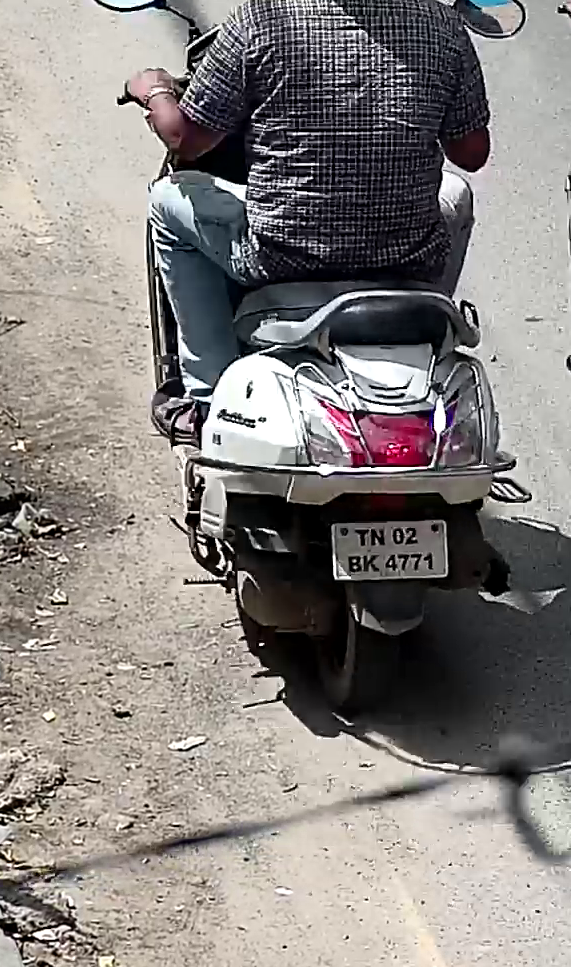0: (392, 527, 405, 544)
1: (424, 553, 433, 570)
2: (405, 527, 418, 546)
4: (384, 554, 397, 571)
7: (410, 553, 423, 571), (397, 553, 409, 571)
B: (347, 555, 362, 573)
K: (363, 554, 380, 573)
N: (370, 527, 386, 546)
P16: (329, 518, 450, 584)
T: (354, 527, 369, 546)
